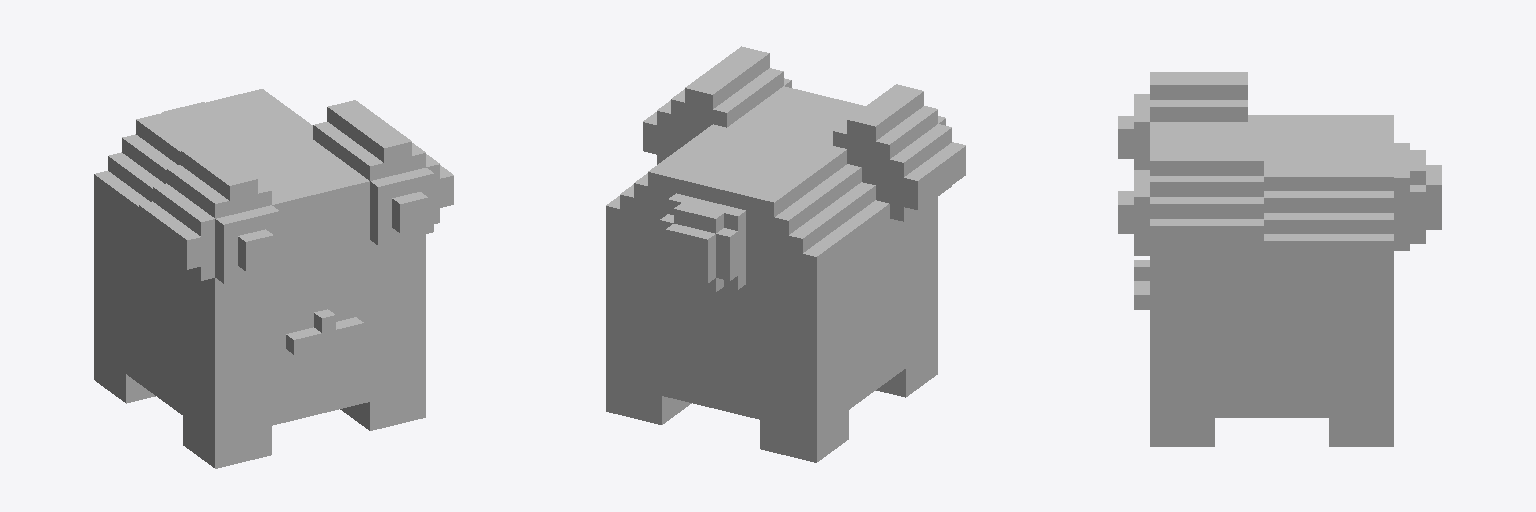
File: sheep.obj
3 renders of one model, left to right at view 1: azimuth 30°, elevation 25°; view 2: azimuth 150°, elevation 25°; view 3: azimuth 270°, elevation 25°, orthographic.
Parts seen in each view (by area): view 1: sheep; view 2: sheep; view 3: sheep.
Boxes of the visible parts, <box> form: sheep: <box>94,89,453,468</box>; sheep: <box>606,46,965,462</box>; sheep: <box>1118,72,1441,446</box>.
Size of the model in its own units: 19 by 19 by 20.